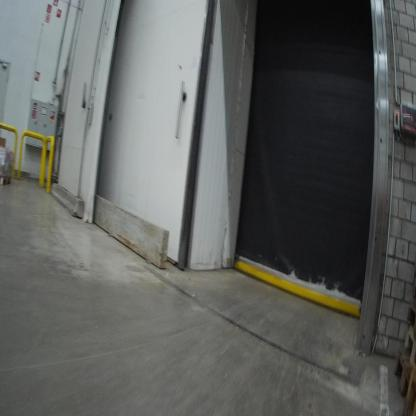pallet: (393, 347, 411, 403), (403, 366, 416, 414), (405, 327, 415, 374), (407, 297, 415, 339)
